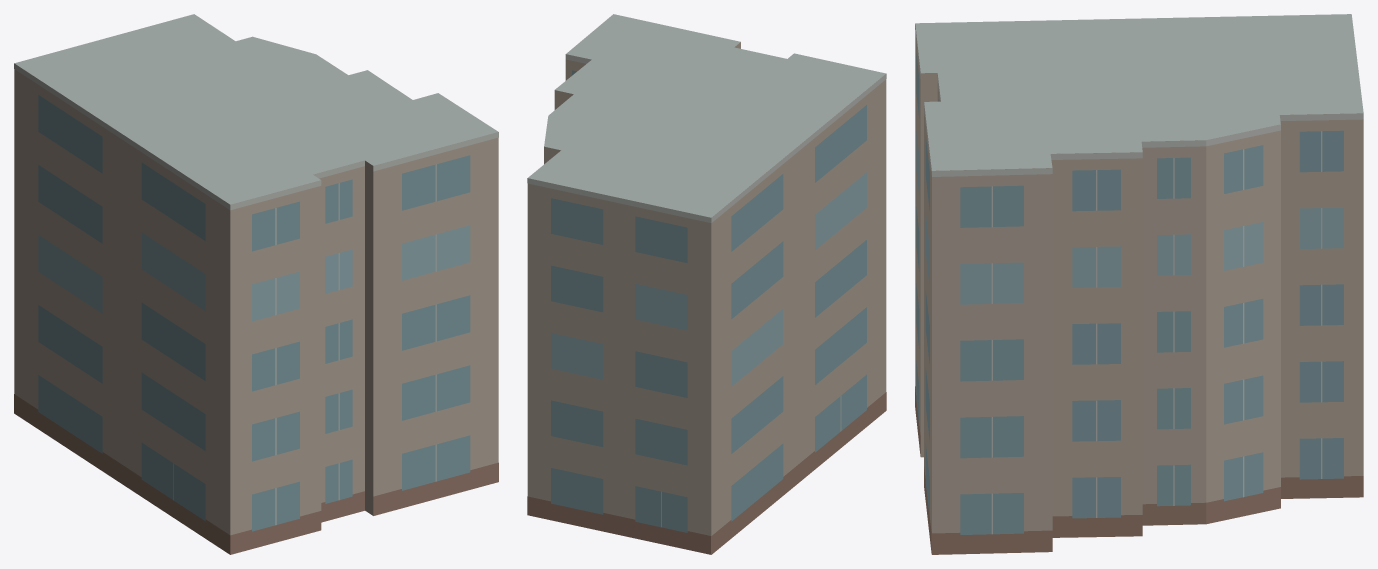
File: survey-upis-33043780.glb
3 renders of one model, left to right at view 1: azimuth 30°, elevation 25°; view 2: azimuth 150°, elevation 25°; view 3: azimuth 270°, elevation 25°, orthographic. The views are drawn at different scales.
Visible parts, largest first — view 1: survey-upis-33043780.tmp; view 2: survey-upis-33043780.tmp; view 3: survey-upis-33043780.tmp.
Boxes of the visible parts, left/top/right/bottom form: survey-upis-33043780.tmp: left=14, top=14, right=498, bottom=554; survey-upis-33043780.tmp: left=527, top=14, right=886, bottom=554; survey-upis-33043780.tmp: left=915, top=14, right=1363, bottom=554.
Bounding box in the file's own units: 13.37 × 15.25 × 16.15.
